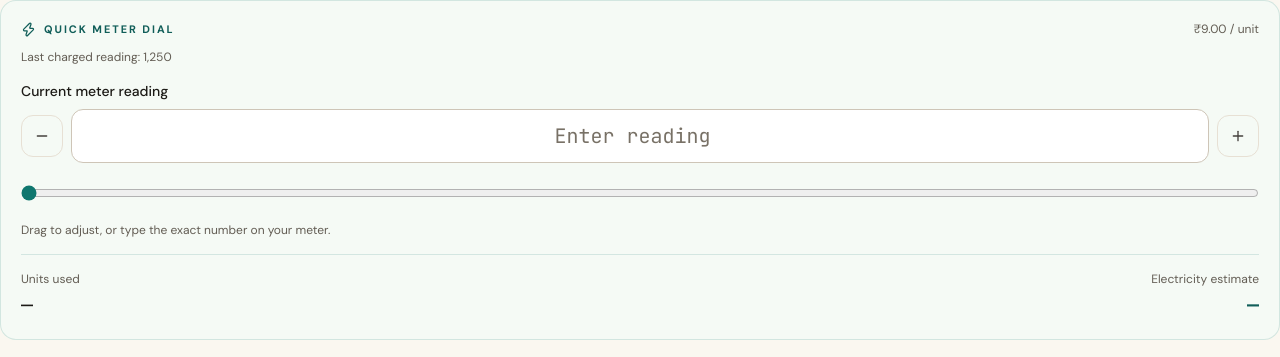
Test case: meter interaction › keeps exact typing and visibly rejects invalid readings
The image size is (1280, 357).
Type "1240" into the number field with test id "test-current". click: (640,136)
box: [71,109,1209,163]
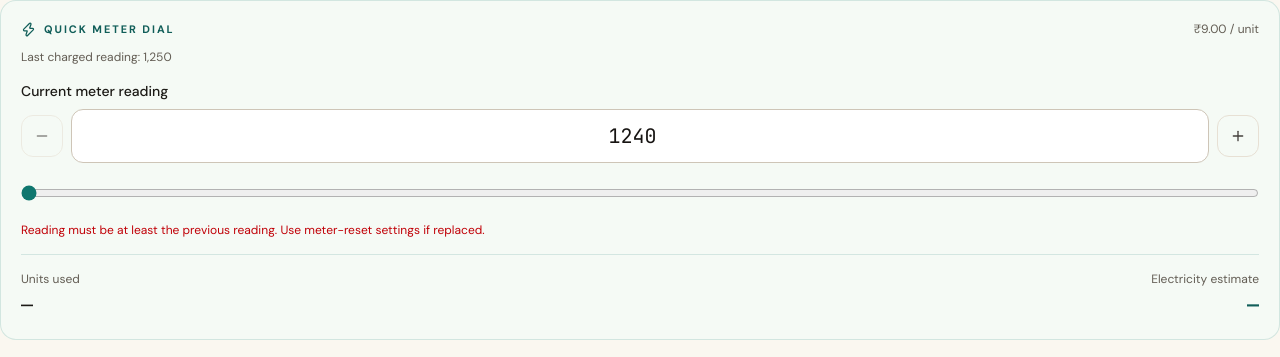
expect the text with test id "test-amount" reads "—": met, box [1247,292,1259,318]
expect the number field with test id "test-current" is marked as invalid: met
Replace the text in the number field with test id "test-current" with "1392.5". click: (640,136)
box: [71,109,1209,163]
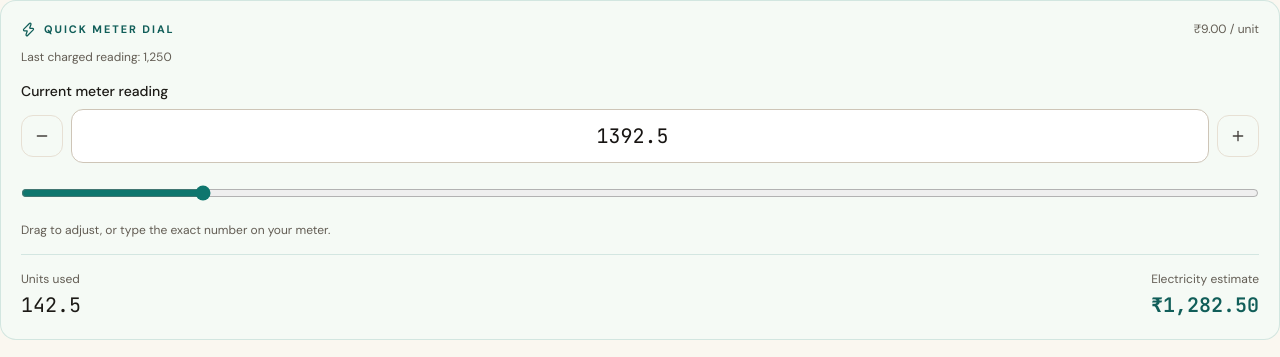
expect the text with test id "test-amount" reads "₹1,282.50": met, box [1151,292,1259,318]
